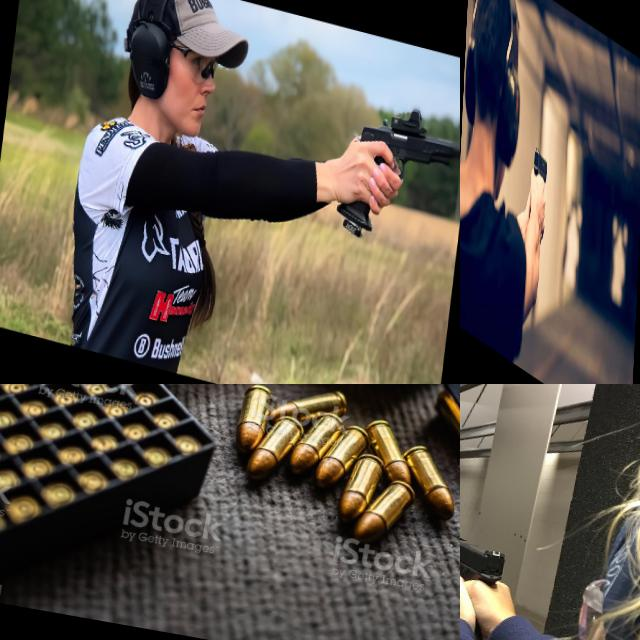handgun: (0, 384, 460, 495), (329, 87, 460, 266), (460, 528, 514, 640), (532, 141, 548, 198)
